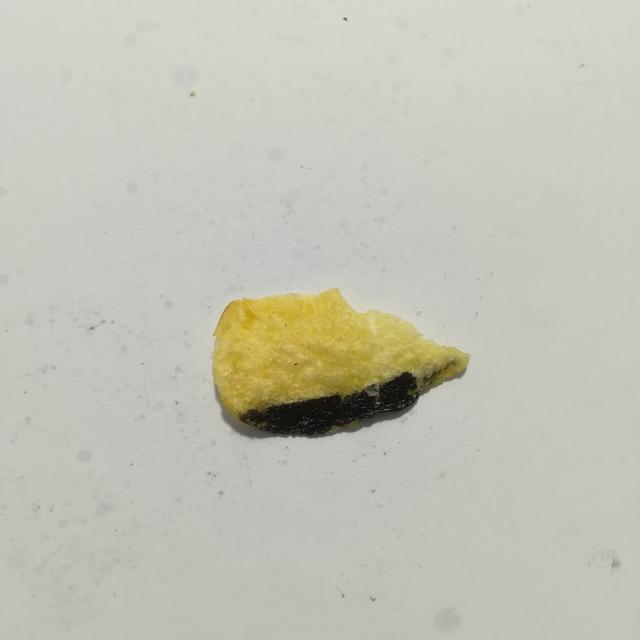chip: (212, 289, 470, 435)
damaged: (240, 372, 419, 435)
semi-damaged: (255, 389, 344, 411), (410, 356, 462, 393), (353, 369, 409, 395)
